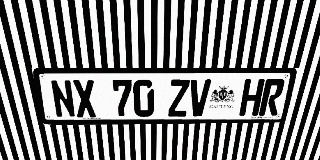0: (133, 79, 154, 117)
7: (111, 80, 133, 117)
H: (239, 79, 265, 116)
N: (49, 80, 76, 118)
R: (258, 79, 286, 116)
V: (188, 79, 211, 116)
X: (72, 80, 97, 118)
Z: (168, 79, 190, 117)
